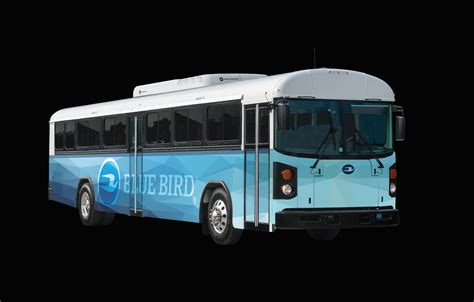bus: (52, 70, 399, 234)
